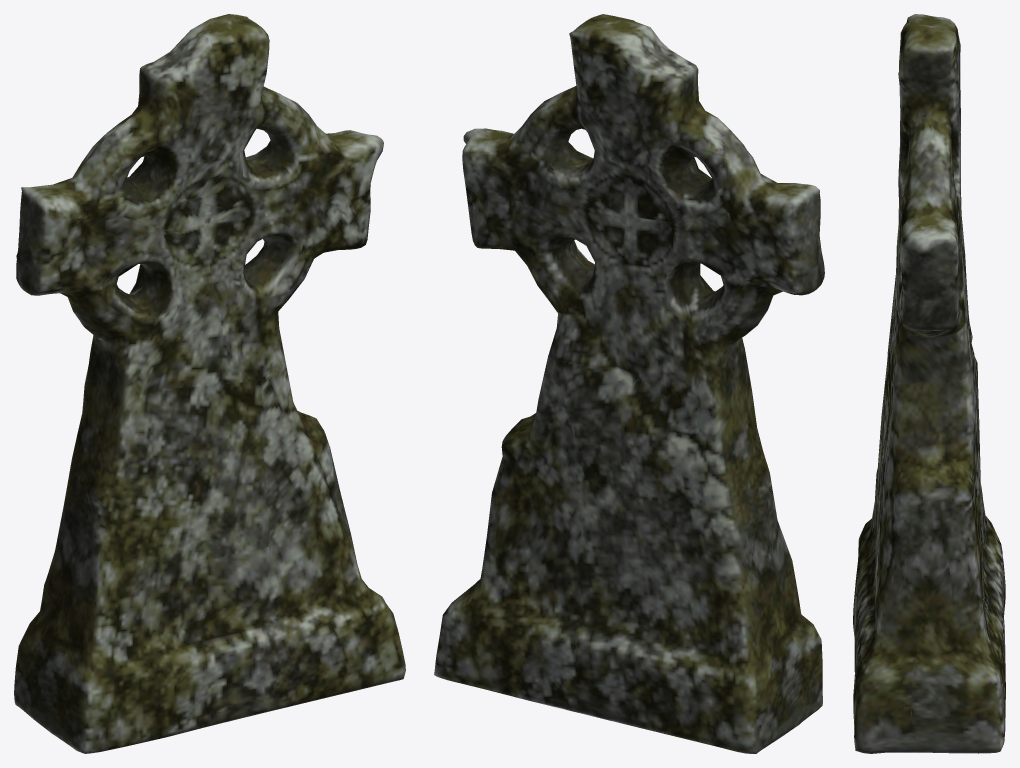
File: gravestone-pixelated.glb
3 renders of one model, left to right at view 1: azimuth 30°, elevation 25°; view 2: azimuth 150°, elevation 25°; view 3: azimuth 270°, elevation 25°, orthographic.
Bounding box in the file's own units: 1.13 × 2 × 0.4187.
Materials: 1 (1 with a texture image).
